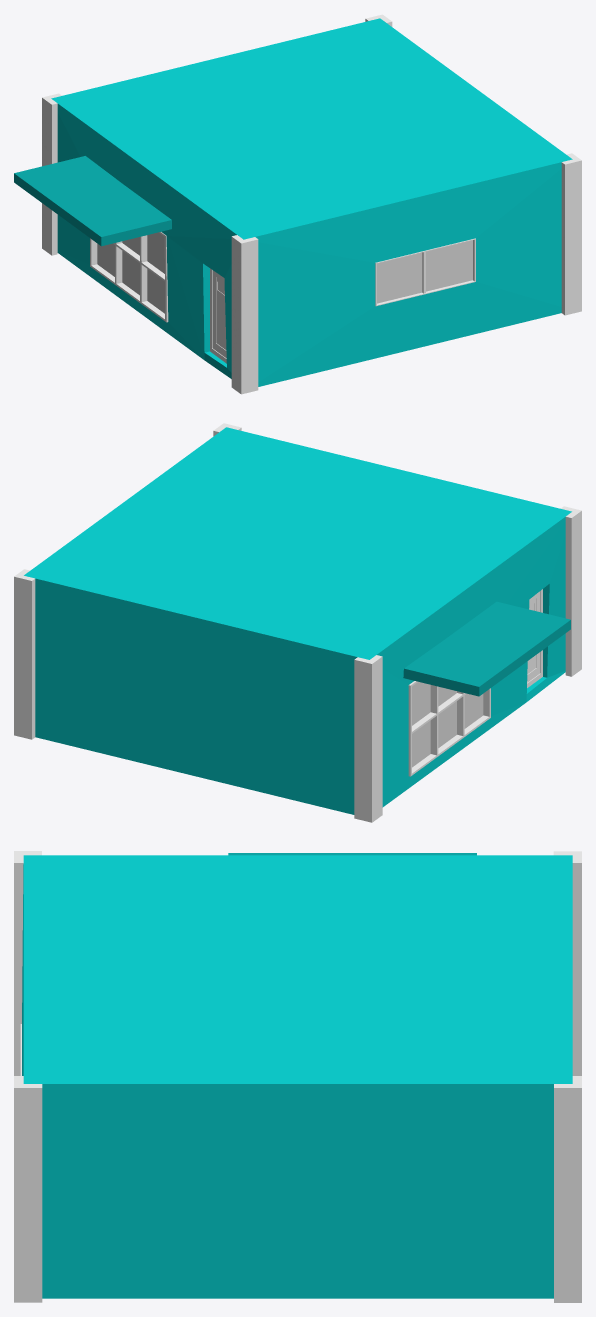
File: House_16.fbx
3 views of the same model, one above another, from view 1: azimuth 30°, elevation 25°; view 2: azimuth 150°, elevation 25°; view 3: azimuth 270°, elevation 25° (orthographic). The views are drawn at different scales.
Visible parts, largest first — view 1: House_16_Body; view 2: House_16_Body; view 3: House_16_Body.
Boxes of the visible parts, left/top/right/bottom form: House_16_Body: left=14, top=14, right=581, bottom=394; House_16_Body: left=14, top=423, right=581, bottom=822; House_16_Body: left=14, top=851, right=581, bottom=1302.
Bounding box in the file's own units: 1253 × 448 × 1068.
